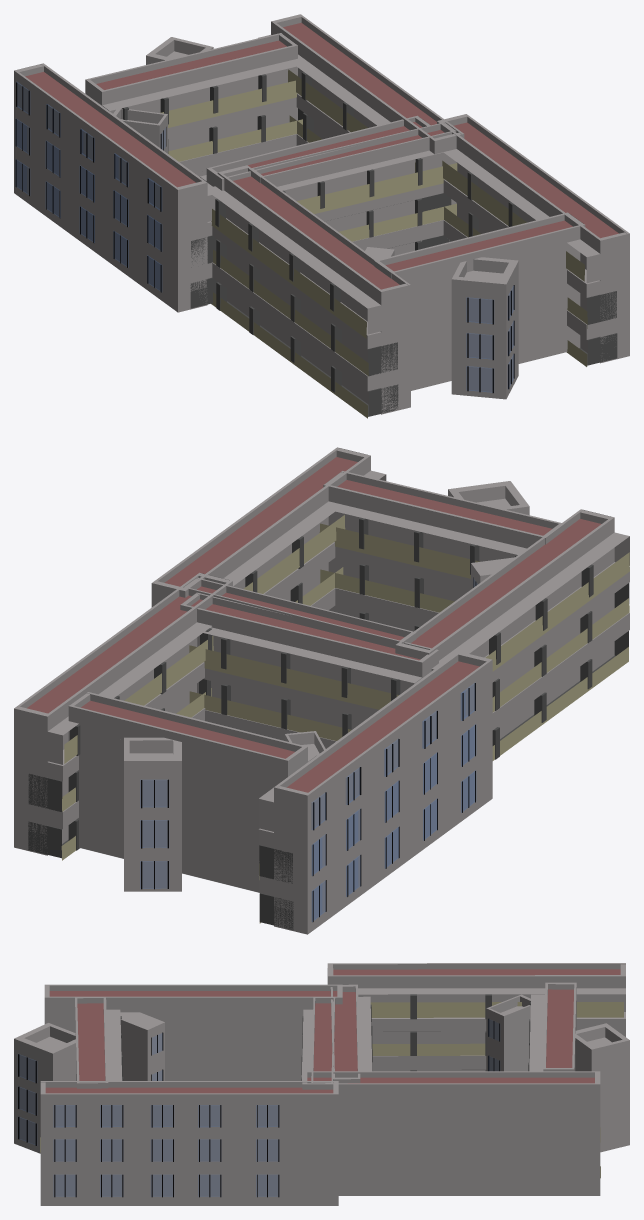
The model's file is opal.glb.
The picture shows the model from 3 angles, top to bottom: view 1: azimuth 30°, elevation 25°; view 2: azimuth 150°, elevation 25°; view 3: azimuth 270°, elevation 25°; orthographic projection. The views are drawn at different scales.
Visible parts, largest first — view 1: Cube.201, Cube.001, Cube.013, Cube.003, Cube.008, Cube.014, Cube.007, Cube.042, Cube.012, Cube, Cube.049, Cube.046 (+2 smaller); view 2: Cube.001, Cube.201, Cube.003, Cube.007, Cube.012, Cube.008, Cube.013, Cube.049, Cube.014, Cube.042, Cube.051, Cube.052 (+1 smaller); view 3: Cube.013, Cube.007, Cube.001, Cube.201, Cube.042, Cube.049, Cube.003, Cube.008, Cube.012, Cube, Cube.009, Cube.014 (+18 smaller).
Part boxes in pixels (x1,y1,x2,y2): Cube.201: [207, 165, 410, 418]; Cube.001: [14, 63, 219, 312]; Cube.013: [437, 114, 629, 366]; Cube.003: [85, 33, 305, 176]; Cube.008: [374, 212, 585, 390]; Cube.014: [249, 122, 457, 255]; Cube.007: [258, 14, 464, 248]; Cube.042: [451, 257, 518, 399]; Cube.012: [200, 115, 430, 190]; Cube: [113, 108, 167, 153]; Cube.049: [146, 37, 213, 64]; Cube.046: [466, 297, 493, 324]; Cube.001: [258, 651, 492, 934]; Cube.201: [395, 509, 629, 760]; Cube.003: [68, 692, 316, 892]; Cube.007: [14, 572, 232, 860]; Cube.012: [180, 592, 438, 748]; Cube.008: [319, 471, 564, 631]; Cube.013: [151, 447, 386, 610]; Cube.049: [124, 737, 181, 891]; Cube.014: [183, 577, 416, 648]; Cube.042: [448, 481, 529, 515]; Cube.051: [140, 820, 168, 848]; Cube.052: [140, 861, 168, 889]; Cube.013: [40, 1081, 338, 1205]; Cube.007: [302, 1071, 600, 1195]; Cube.001: [327, 963, 625, 1071]; Cube.201: [44, 984, 342, 1080]; Cube.042: [14, 1023, 75, 1153]; Cube.049: [575, 1023, 629, 1152]; Cube.003: [528, 982, 576, 1071]; Cube.008: [75, 996, 123, 1088]; Cube.012: [330, 984, 372, 1083]; Cube: [486, 994, 530, 1071]; Cube.009: [120, 1012, 164, 1080]; Cube.014: [301, 996, 335, 1083].
Bounding box in the file's own units: 24.46 × 9.83 × 48.05.
